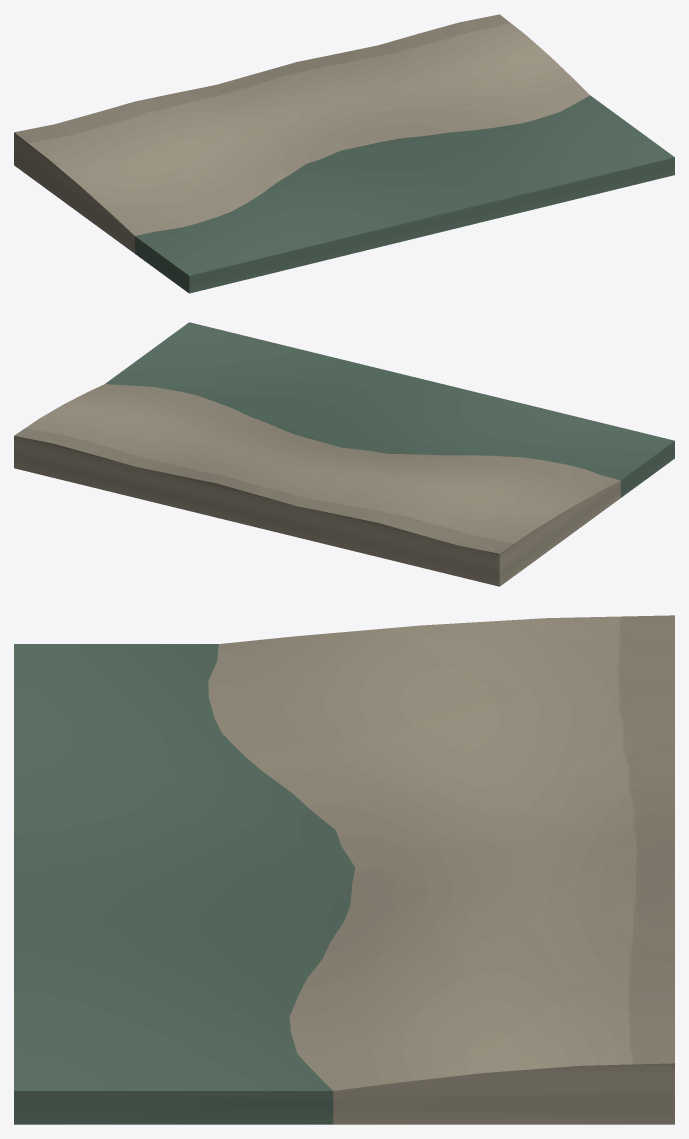
The picture shows the model from 3 angles, top to bottom: view 1: azimuth 30°, elevation 25°; view 2: azimuth 150°, elevation 25°; view 3: azimuth 270°, elevation 25°; orthographic projection. The views are drawn at different scales.
Visible parts, largest first — view 1: villa-las-estrellas; view 2: villa-las-estrellas; view 3: villa-las-estrellas.
Part boxes in pixels (x1,y1,x2,y2): villa-las-estrellas: [14, 14, 674, 293]; villa-las-estrellas: [14, 322, 674, 586]; villa-las-estrellas: [14, 615, 674, 1124].
Bounding box in the file's own units: 8 × 0.5401 × 5.
Materials: 1 (1 with a texture image).
